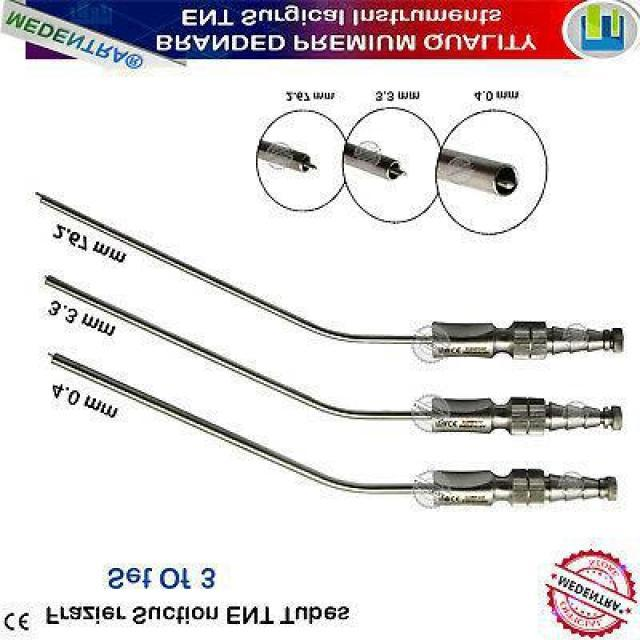Frazier: (39, 274, 626, 441), (38, 196, 628, 362), (46, 352, 621, 512), (439, 148, 518, 196), (346, 143, 402, 180), (256, 141, 312, 173)
